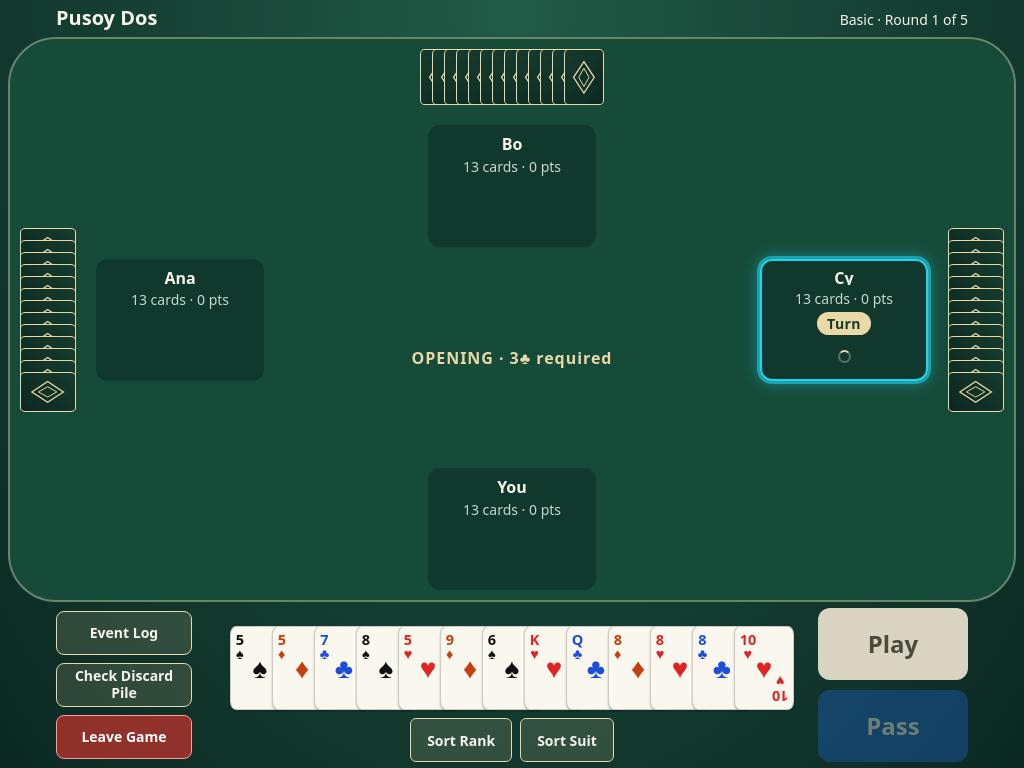
Leave Game confirmation (M4-T11; ui-ux.md §10) › opens a confirmation naming that progress is not saved; Stay closes it without leaving
What coordinates should you click on to do the following:
click the button "Leave Game"
I would click on:
 (124, 737)
Its box is [56,715,192,759].
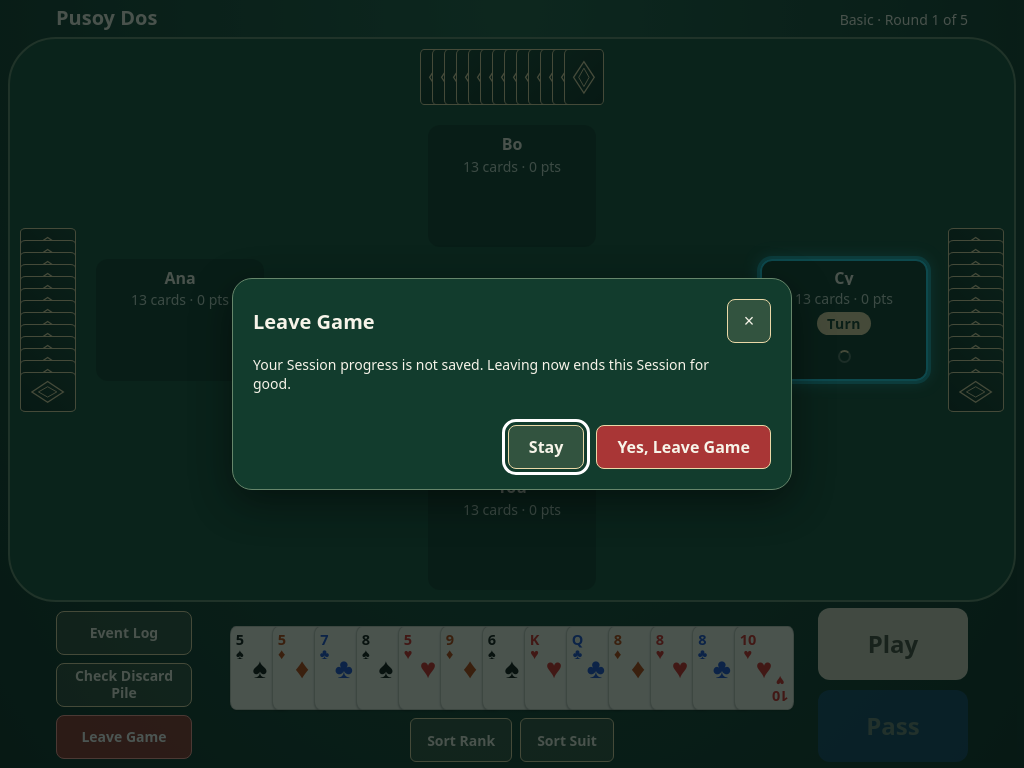
Now the dialog "Leave Game" is shown, box [232,278,792,490]
Now the text "progress is not saved" is shown, box [253,355,709,393]
What coordinates should you click on to do the following:
click the button "Stay"
I would click on:
 (546, 447)
Its box is [508,425,584,469].
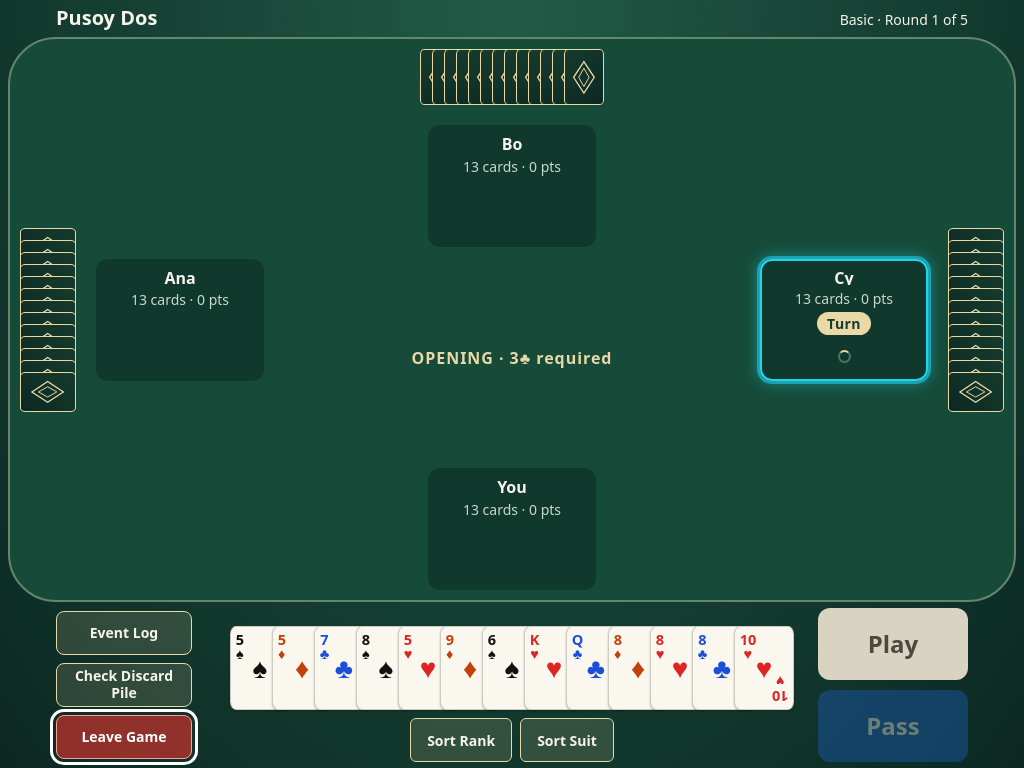
Now the dialog is gone
